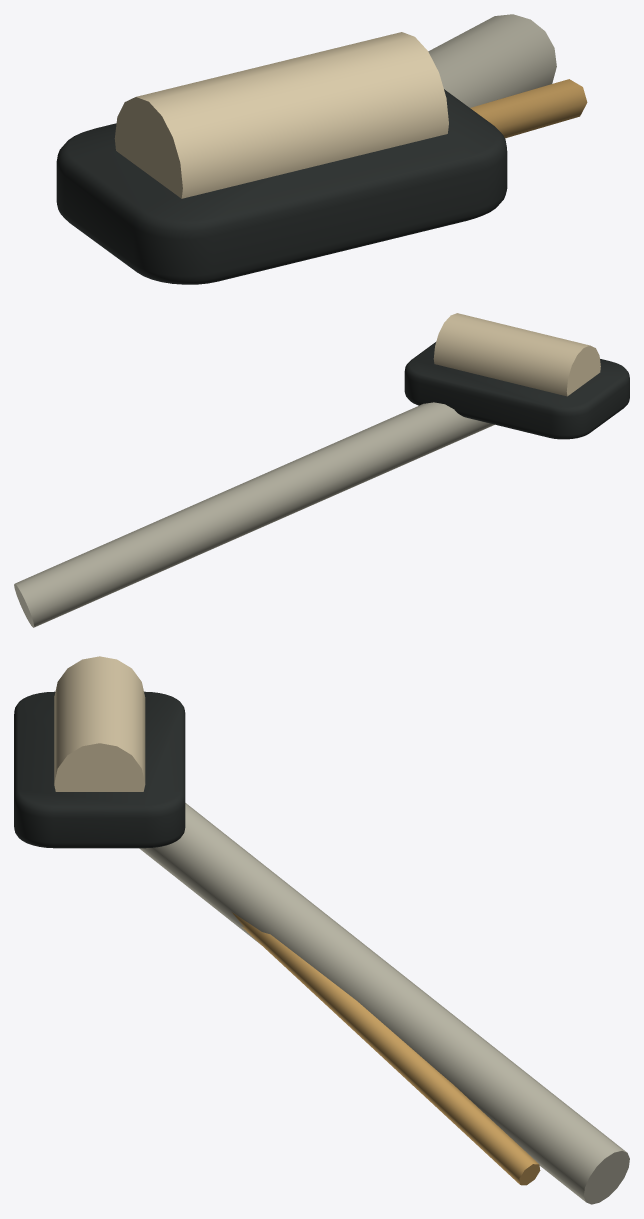
The model's file is Metropolitan.glb.
3 renders of one model, top to bottom at view 1: azimuth 30°, elevation 25°; view 2: azimuth 150°, elevation 25°; view 3: azimuth 270°, elevation 25°, orthographic. The views are drawn at different scales.
Visible parts, largest first — view 1: Palm pad, Swivel grip, Return arm, Counter lever; view 2: Return arm, Palm pad, Swivel grip; view 3: Return arm, Palm pad, Swivel grip, Counter lever.
Part boxes in pixels (bbox=[...]): Palm pad: bbox=[56, 89, 507, 284]; Swivel grip: bbox=[114, 32, 448, 198]; Return arm: bbox=[428, 14, 556, 107]; Counter lever: bbox=[470, 79, 587, 138]; Return arm: bbox=[14, 402, 494, 627]; Palm pad: bbox=[404, 342, 629, 439]; Swivel grip: bbox=[433, 313, 600, 396]; Return arm: bbox=[139, 803, 629, 1204]; Palm pad: bbox=[14, 691, 185, 848]; Swivel grip: bbox=[54, 656, 145, 791]; Counter lever: bbox=[232, 912, 540, 1185].
Size of the model in its own units: 0.9883 by 0.529 by 0.9596.
